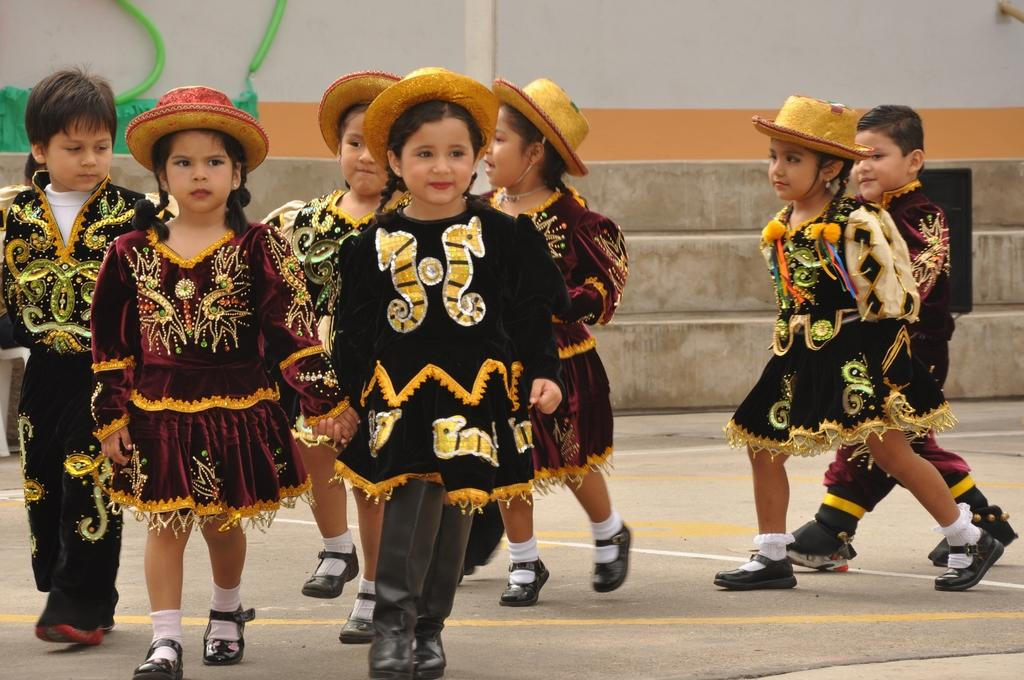Hat: (360, 66, 499, 168), (122, 85, 268, 171), (491, 75, 586, 176), (749, 94, 873, 160), (316, 66, 402, 151)
